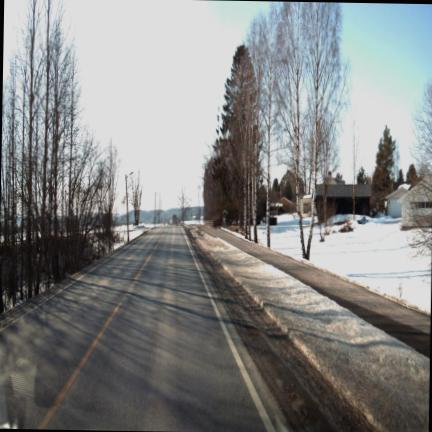Road: (0, 227, 284, 431)
